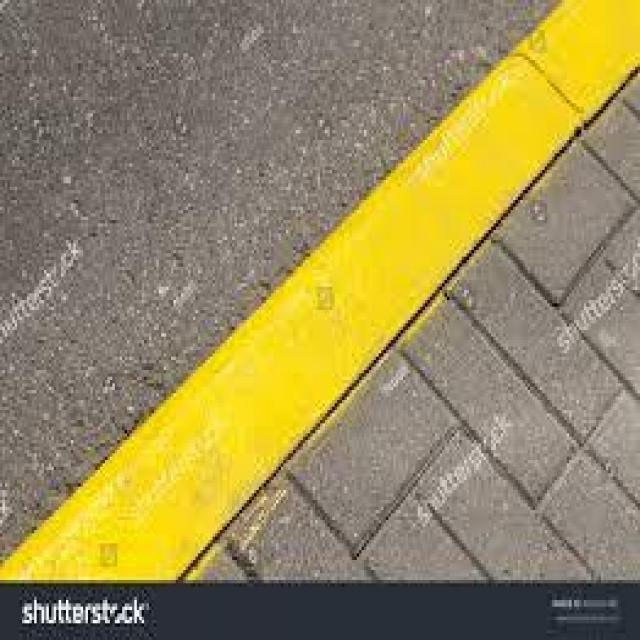curb: (4, 1, 640, 582)
